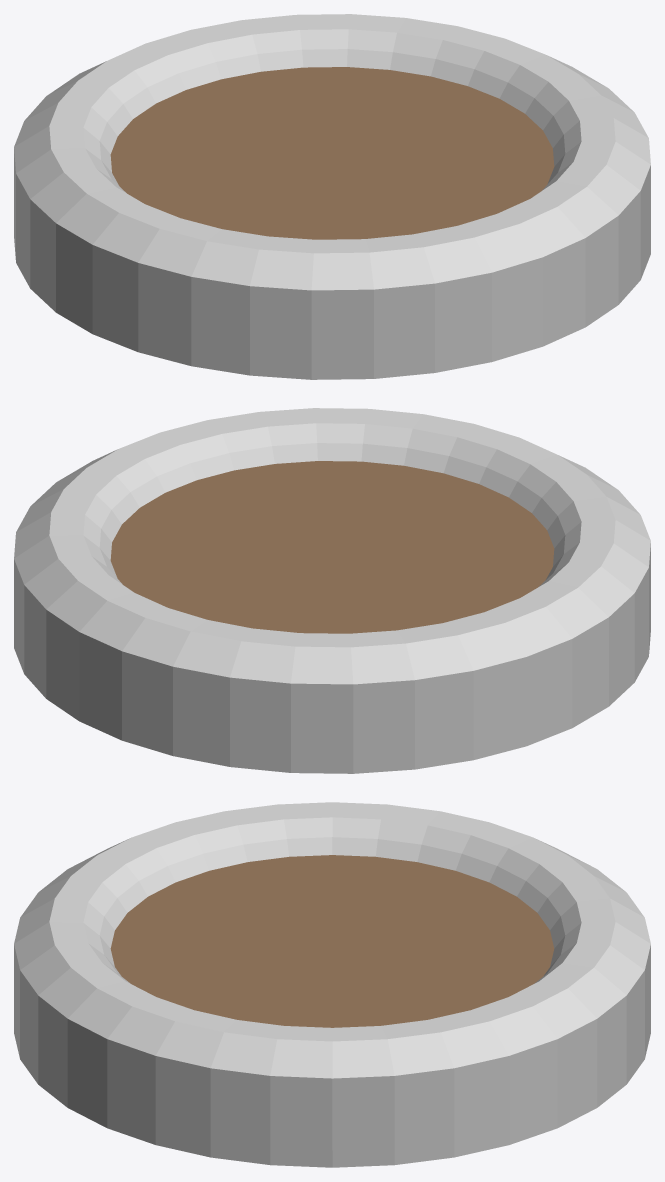
Rendered from Tree_Bottom.fbx.
3 renders of one model, top to bottom at view 1: azimuth 30°, elevation 25°; view 2: azimuth 150°, elevation 25°; view 3: azimuth 270°, elevation 25°, orthographic.
Parts seen in each view (by area): view 1: Tree_Bottom; view 2: Tree_Bottom; view 3: Tree_Bottom.
Boxes of the visible parts, x1,y1,x2,y2 form: Tree_Bottom: [14, 14, 650, 379]; Tree_Bottom: [14, 408, 650, 773]; Tree_Bottom: [14, 802, 650, 1167].
Bounding box in the file's own units: 312 × 60.24 × 312.
